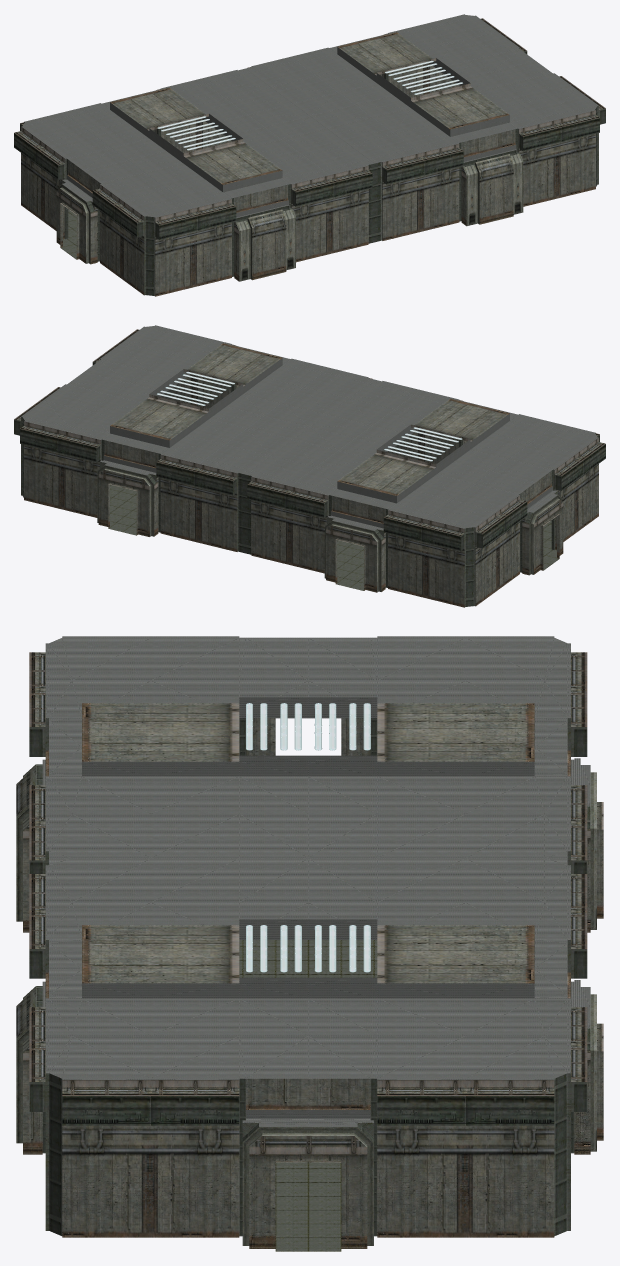
File: poi_all_impl_bunker_crimelord_retreat_s01_r29_treasureguardroom_mesh_r29.fbx
3 views of the same model, one above another, from view 1: azimuth 30°, elevation 25°; view 2: azimuth 150°, elevation 25°; view 3: azimuth 270°, elevation 25° (orthographic). The views are drawn at different scales.
Visible parts, largest first — view 1: mesh_node; view 2: mesh_node; view 3: mesh_node.
Part boxes in pixels (x1,y1,x2,y2): mesh_node: (14, 14, 605, 296); mesh_node: (14, 325, 605, 607); mesh_node: (16, 636, 603, 1251).
Bounding box in the file's own units: 34 × 6 × 17.9.
